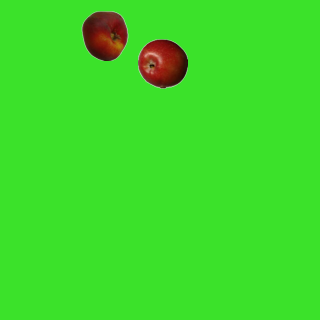Apple Braeburn: (137, 38, 187, 88)
Nectarine Flat: (79, 10, 129, 60)
